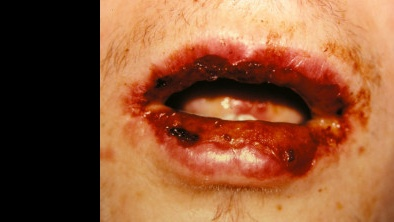SJS-TEN: (113, 38, 384, 190)
